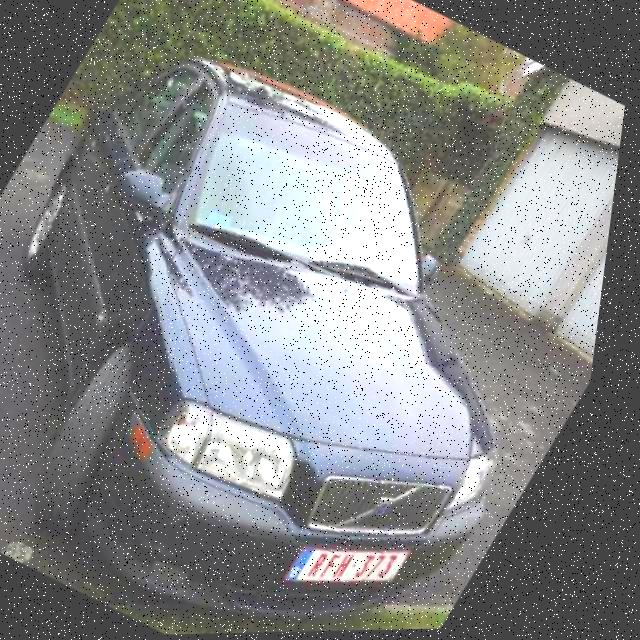license_plate: (293, 508, 432, 628)
